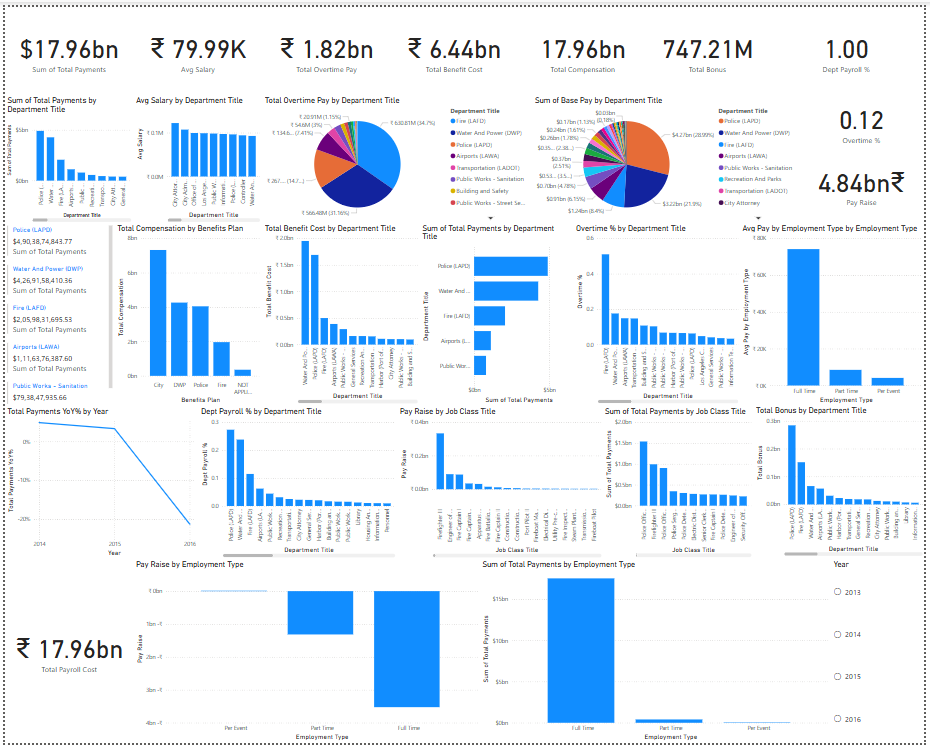

The dashboard page shown, as its layout file describes it:
{"tool":"powerbi","page":{"name":"Page 1","canvas":[2000,1600],"ordinal":0},"visuals":[{"type":"card","fields":{"Values":["Sum(CPD.Total Payments)"]},"box":[0,0,279.2,191.6],"z":0},{"type":"columnChart","fields":{"Y":["Sum(CPD.Total Payments)"],"Category":["CPD.Department Title"]},"box":[0,191.6,279.5,279.5],"z":1000},{"type":"card","fields":{"Values":["CPD.Avg Salary"]},"box":[279.5,0,279.5,191.6],"z":2000},{"type":"columnChart","fields":{"Category":["CPD.Department Title"],"Y":["CPD.Avg Salary"]},"box":[279.5,191.6,279.5,279.5],"z":3000},{"type":"pieChart","fields":{"Category":["CPD.Department Title"],"Y":["CPD.Total Overtime Pay"]},"box":[558.4,191.6,587,279.2],"z":4000},{"type":"pieChart","fields":{"Category":["CPD.Department Title"],"Y":["Sum(CPD.Base Pay)"]},"box":[1145.4,191.6,580.8,279.2],"z":5000},{"type":"columnChart","fields":{"Y":["CPD.Total Compensation"],"Category":["CPD.Benefits Plan","CPD.Department Title","CPD.Employment Type","CPD.MOU Title","CPD.Job Class Title"]},"box":[239,471.2,320.1,396.8],"z":6000},{"type":"columnChart","fields":{"Y":["CPD.Total Benefit Cost"],"Category":["CPD.Department Title"]},"box":[559.1,471.2,342.7,396.8],"z":7000},{"type":"multiRowCard","fields":{"Values":["CPD.Department Title","Sum(CPD.Total Payments)"]},"box":[0,470.8,238.5,397.4],"z":8000},{"type":"card","fields":{"Values":["CPD.Total Overtime Pay"]},"box":[558.4,0,279.2,191.6],"z":9000},{"type":"card","fields":{"Values":["CPD.Total Benefit Cost"]},"box":[837.6,0,279.2,191.6],"z":10000},{"type":"card","fields":{"Values":["CPD.Total Compensation"]},"box":[1116.9,0,279.2,191.6],"z":11000},{"type":"card","fields":{"Values":["CPD.Total Bonus"]},"box":[1396.1,0,260.9,191.6],"z":12000},{"type":"card","fields":{"Values":["CPD.Dept Payroll %"]},"box":[1656.9,0,342.6,191.6],"z":13000},{"type":"card","fields":{"Values":["CPD.Overtime %"]},"box":[1726.2,191.6,273.1,114.1],"z":14000},{"type":"card","fields":{"Values":["CPD.Pay Raise"]},"box":[1726.2,305.7,273.1,165.1],"z":15000},{"type":"lineChart","fields":{"Category":["CPD.Year.Variation.Date Hierarchy.Year","CPD.Year.Variation.Date Hierarchy.Quarter","CPD.Year.Variation.Date Hierarchy.Month","CPD.Year.Variation.Date Hierarchy.Day"],"Y":["CPD.Total Payments YoY%"]},"box":[0,868.2,419.8,330.2],"z":16000},{"type":"columnChart","fields":{"Category":["CPD.Department Title"],"Y":["CPD.Dept Payroll %"]},"box":[419.8,868.2,432.1,332.2],"z":17000},{"type":"clusteredColumnChart","fields":{"Category":["CPD.Job Class Title"],"Y":["CPD.Pay Raise"]},"box":[851.9,868.2,448.4,332.2],"z":18000},{"type":"columnChart","fields":{"Category":["CPD.Department Title"],"Y":["CPD.Overtime %"]},"box":[1235.4,471.2,362.9,396.8],"z":20000},{"type":"clusteredColumnChart","fields":{"Category":["CPD.Job Class Title"],"Y":["Sum(CPD.Total Payments)"]},"box":[1298.9,869.6,328.8,331.5],"z":21000},{"type":"columnChart","fields":{"Y":["CPD.Avg Pay by Employment Type"],"Category":["CPD.Employment Type"]},"box":[1598.3,471.2,401.3,396.8],"z":22000},{"type":"columnChart","fields":{"Category":["CPD.Department Title"],"Y":["CPD.Total Bonus"]},"box":[1627.7,866.9,372.3,331.5],"z":23000},{"type":"listSlicer","fields":{"Values":["CPD.Year.Variation.Date Hierarchy.Year"]},"box":[1796.2,1201.1,203.8,399.5],"z":24000},{"type":"card","fields":{"Values":["CPD.Total Payroll Cost"]},"box":[0,1201.1,279.9,399.5],"z":25000},{"type":"columnChart","fields":{"Category":["CPD.Total Payments"]},"box":[420,1201,432,399],"z":26000},{"type":"clusteredColumnChart","fields":{"Category":["CPD.Employment Type"],"Y":["CPD.Pay Raise"]},"box":[279.6,1200.6,753.2,399],"z":27000},{"type":"clusteredColumnChart","fields":{"Category":["CPD.Employment Type"],"Y":["Sum(CPD.Total Payments)"]},"box":[1032.8,1200.6,764.4,399],"z":28000},{"type":"clusteredBarChart","fields":{"Category":["CPD.Department Title"],"Y":["Sum(CPD.Total Payments)"]},"box":[902,471.4,332.7,395.9],"z":29001}]}

Visuals, with their boxes in screenshot pixels (x1, y1, x2, y2), scaled from the page's 2000x1600 canvas onto the 930x748 screenshot:
card - Sum(CPD.Total Payments): <bbox>0, 0, 130, 90</bbox>
columnChart - Sum(CPD.Total Payments) x CPD.Department Title: <bbox>0, 90, 130, 220</bbox>
card - CPD.Avg Salary: <bbox>130, 0, 260, 90</bbox>
columnChart - CPD.Department Title x CPD.Avg Salary: <bbox>130, 90, 260, 220</bbox>
pieChart - CPD.Department Title x CPD.Total Overtime Pay: <bbox>260, 90, 533, 220</bbox>
pieChart - CPD.Department Title x Sum(CPD.Base Pay): <bbox>533, 90, 803, 220</bbox>
columnChart - CPD.Total Compensation x CPD.Benefits Plan: <bbox>111, 220, 260, 406</bbox>
columnChart - CPD.Total Benefit Cost x CPD.Department Title: <bbox>260, 220, 419, 406</bbox>
multiRowCard - CPD.Department Title x Sum(CPD.Total Payments): <bbox>0, 220, 111, 406</bbox>
card - CPD.Total Overtime Pay: <bbox>260, 0, 389, 90</bbox>
card - CPD.Total Benefit Cost: <bbox>389, 0, 519, 90</bbox>
card - CPD.Total Compensation: <bbox>519, 0, 649, 90</bbox>
card - CPD.Total Bonus: <bbox>649, 0, 771, 90</bbox>
card - CPD.Dept Payroll %: <bbox>770, 0, 929, 90</bbox>
card - CPD.Overtime %: <bbox>803, 90, 929, 143</bbox>
card - CPD.Pay Raise: <bbox>803, 143, 929, 220</bbox>
lineChart - CPD.Year.Variation.Date Hierarchy.Year x CPD.Year.Variation.Date Hierarchy.Quarter: <bbox>0, 406, 195, 560</bbox>
columnChart - CPD.Department Title x CPD.Dept Payroll %: <bbox>195, 406, 396, 561</bbox>
clusteredColumnChart - CPD.Job Class Title x CPD.Pay Raise: <bbox>396, 406, 605, 561</bbox>
columnChart - CPD.Department Title x CPD.Overtime %: <bbox>574, 220, 743, 406</bbox>
clusteredColumnChart - CPD.Job Class Title x Sum(CPD.Total Payments): <bbox>604, 407, 757, 562</bbox>
columnChart - CPD.Avg Pay by Employment Type x CPD.Employment Type: <bbox>743, 220, 929, 406</bbox>
columnChart - CPD.Department Title x CPD.Total Bonus: <bbox>757, 405, 929, 560</bbox>
listSlicer - CPD.Year.Variation.Date Hierarchy.Year: <bbox>835, 562, 929, 747</bbox>
card - CPD.Total Payroll Cost: <bbox>0, 562, 130, 747</bbox>
columnChart - CPD.Total Payments: <bbox>195, 561, 396, 747</bbox>
clusteredColumnChart - CPD.Employment Type x CPD.Pay Raise: <bbox>130, 561, 480, 747</bbox>
clusteredColumnChart - CPD.Employment Type x Sum(CPD.Total Payments): <bbox>480, 561, 836, 747</bbox>
clusteredBarChart - CPD.Department Title x Sum(CPD.Total Payments): <bbox>419, 220, 574, 405</bbox>
